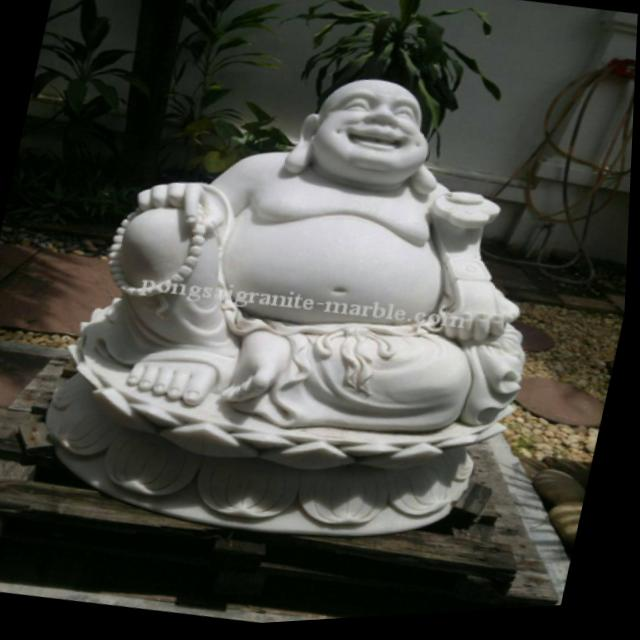Smiling Buddha: (85, 33, 587, 467)
